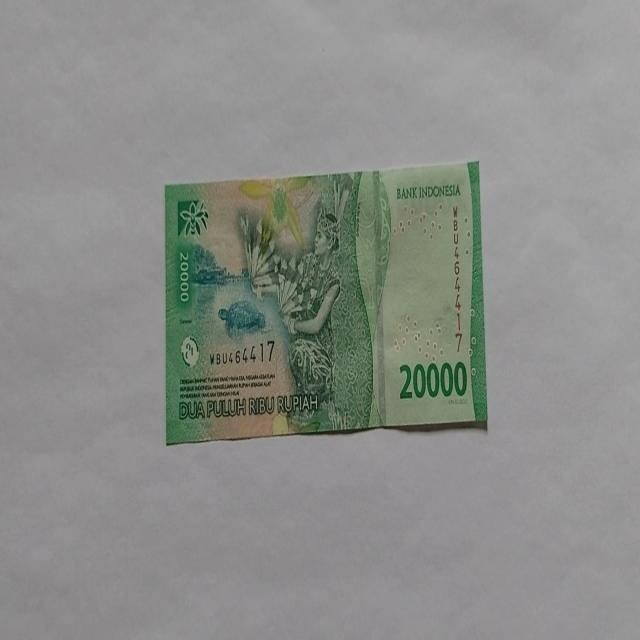dua puluh ribu rupiah: (164, 159, 488, 445)
